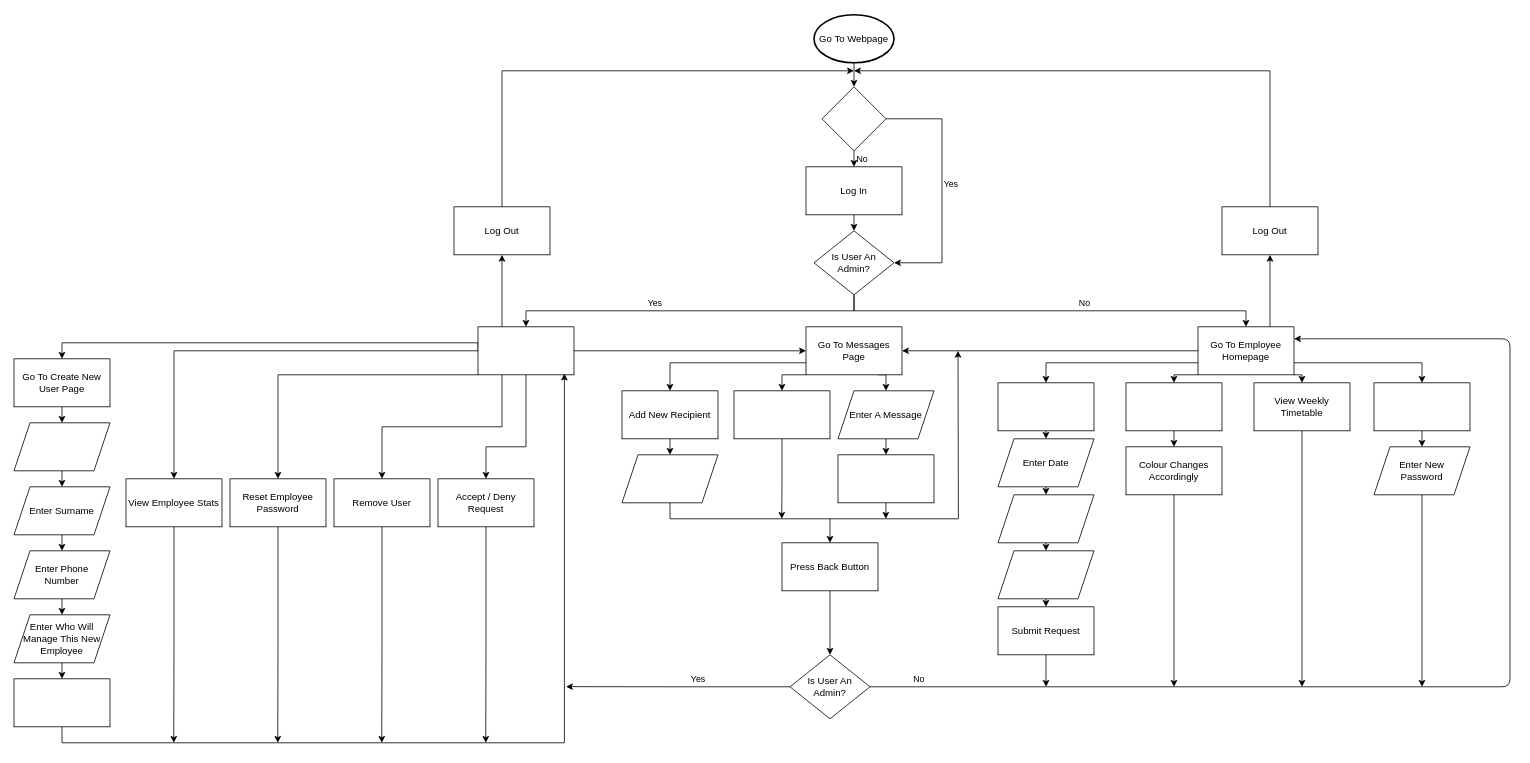
The diagram is 1530 pixels wide and 763 high, and some of its shapes have lost their labels. The shapes that lost their labels are listed below. From the top down, each one's box as (x1, y1, x2, y2) in pixels, then its label:
(821, 86, 886, 151): Is User Logged In
(477, 326, 574, 375): Go To Admin Homepage
(733, 390, 830, 439): View Messages With A Certain Person
(997, 382, 1094, 431): Apply For leave/overtime
(1125, 382, 1222, 431): Press Clock In / Out Button
(1373, 382, 1470, 431): Click Change Password Button
(13, 422, 110, 471): Enter First Name
(621, 454, 718, 503): Choose Recipient
(837, 454, 934, 503): Send The Message To The Selected Person
(997, 494, 1094, 543): Enter Time
(997, 550, 1094, 599): Enter Length
(13, 678, 110, 727): Click Create Account
